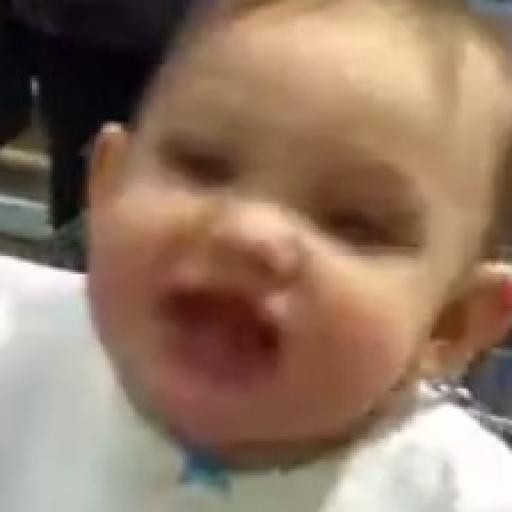Autism: (106, 39, 512, 467)
